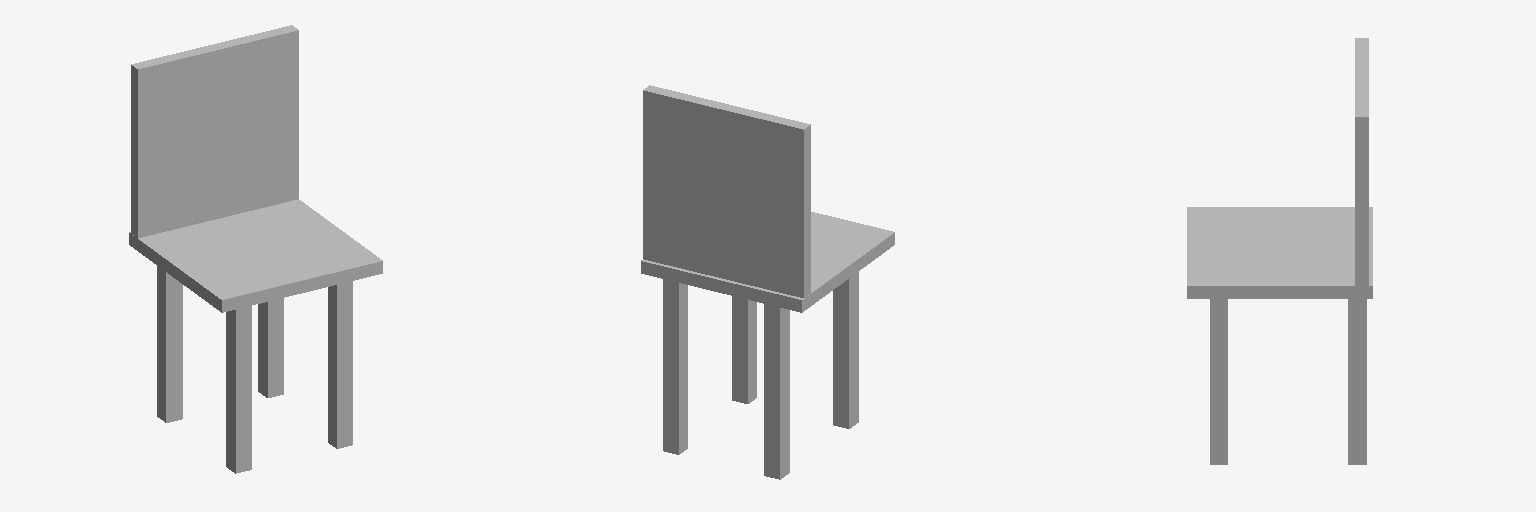
The model's file is silla.obj.
3 renders of one model, left to right at view 1: azimuth 30°, elevation 25°; view 2: azimuth 150°, elevation 25°; view 3: azimuth 270°, elevation 25°, orthographic.
Visible parts, largest first — view 1: Cube.011, Cube.010, Cube.012, Cube.013, Cube.015, Cube.014; view 2: Cube.011, Cube.010, Cube.015, Cube.014, Cube.012, Cube.013; view 3: Cube.010, Cube.011, Cube.014, Cube.013.
Part boxes in pixels (left/top/right/bottom): Cube.011: left=131, top=25, right=298, bottom=237; Cube.010: left=129, top=199, right=382, bottom=312; Cube.012: left=226, top=306, right=251, bottom=473; Cube.013: left=328, top=281, right=352, bottom=448; Cube.015: left=157, top=266, right=182, bottom=422; Cube.014: left=258, top=298, right=283, bottom=397; Cube.011: left=643, top=85, right=810, bottom=297; Cube.010: left=641, top=212, right=894, bottom=312; Cube.015: left=764, top=304, right=789, bottom=479; Cube.014: left=663, top=279, right=687, bottom=454; Cube.012: left=833, top=272, right=858, bottom=428; Cube.013: left=732, top=296, right=756, bottom=403; Cube.010: left=1187, top=207, right=1372, bottom=298; Cube.011: left=1355, top=38, right=1368, bottom=285; Cube.014: left=1348, top=299, right=1366, bottom=464; Cube.013: left=1210, top=299, right=1227, bottom=464.
Bounding box in the file's own units: 0.8 × 1.69 × 0.8.